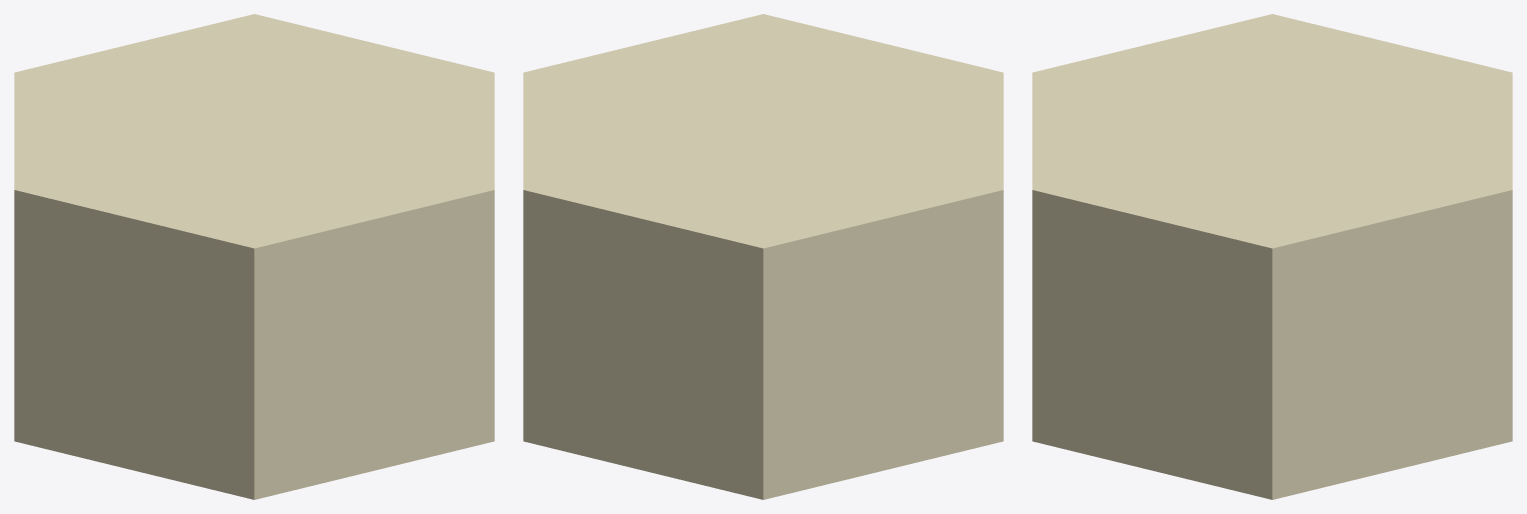
Rendered from cake.fbx.
3 views of the same model, side by side, from view 1: azimuth 30°, elevation 25°; view 2: azimuth 150°, elevation 25°; view 3: azimuth 270°, elevation 25° (orthographic).
Visible parts, largest first — view 1: pCylinder1; view 2: pCylinder1; view 3: pCylinder1.
Part boxes in pixels (bbox=[...]): pCylinder1: bbox=[14, 14, 494, 499]; pCylinder1: bbox=[523, 14, 1003, 499]; pCylinder1: bbox=[1032, 14, 1512, 499].
Bounding box in the file's own units: 2 × 1 × 1.73.
